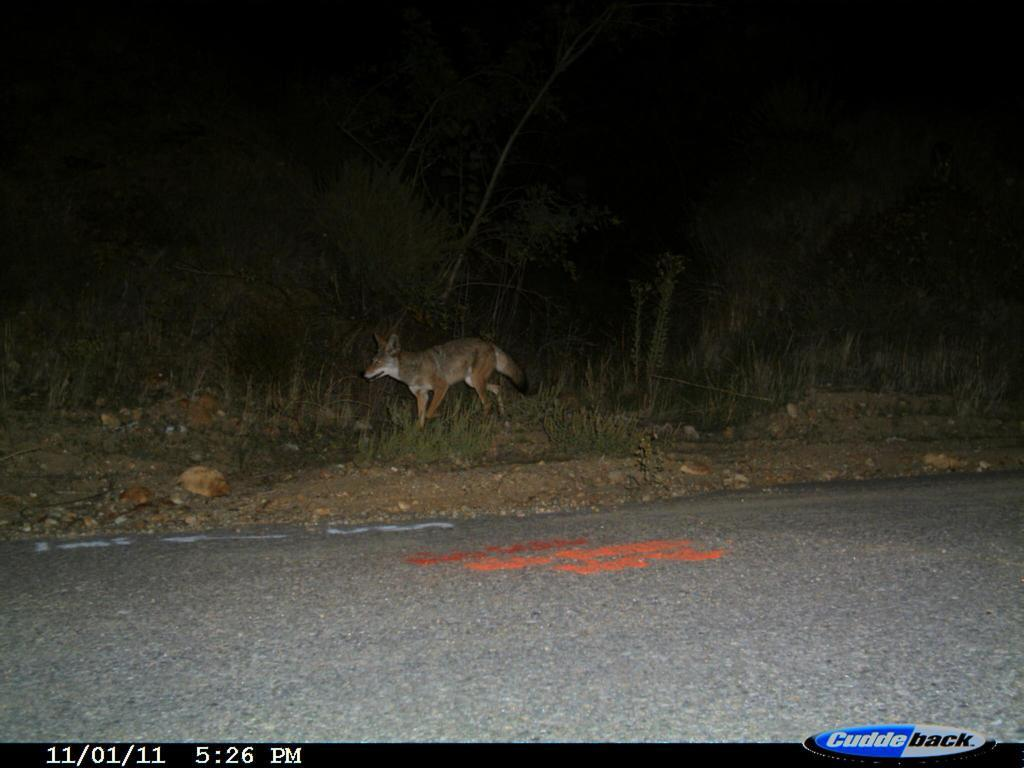coyote: (356, 326, 536, 439)
